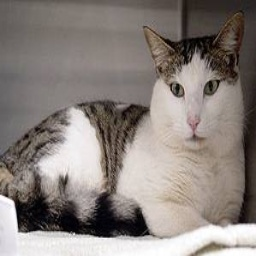cat: (5, 18, 249, 241)
